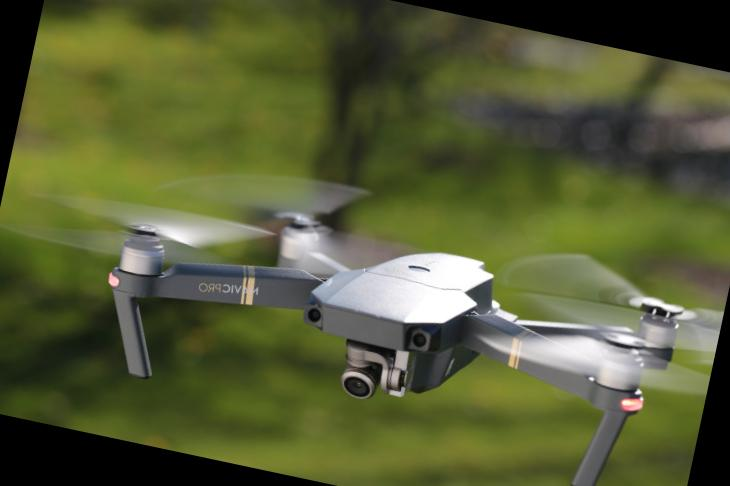drone: (59, 156, 727, 486)
